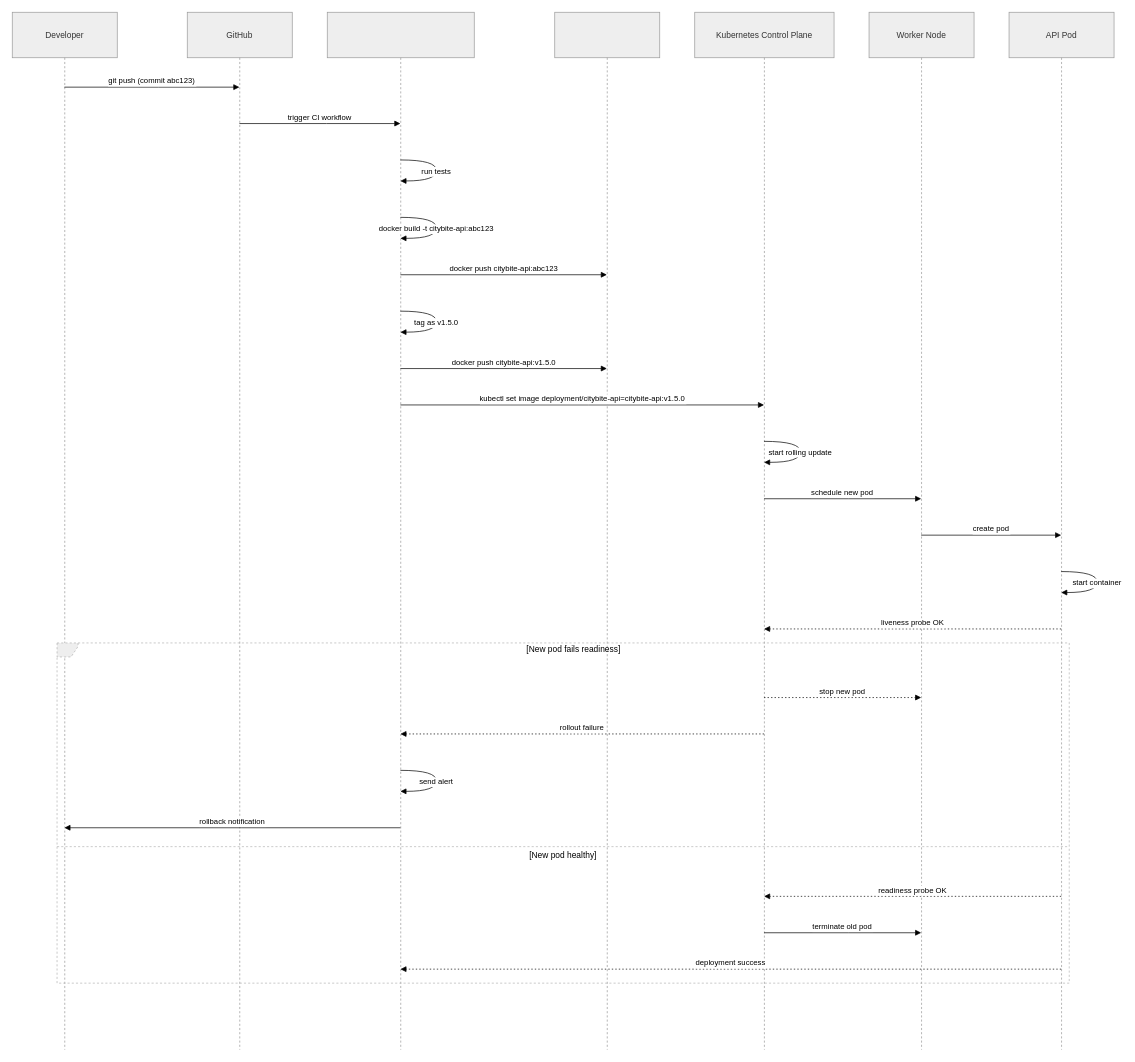
Image size: 1135x1062. Some labels were removed from this diagram. The box of each missing label's shape, as (x1, y1, x2, y2) in pixels:
alt: (56, 642, 1069, 983)
CI Runner (GitHub Actions): (327, 12, 474, 1050)
Container Registry: (554, 12, 660, 1050)
